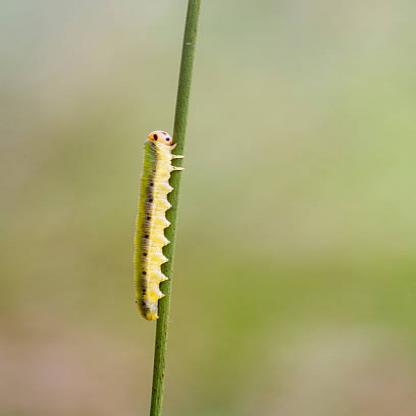sawfly: (122, 128, 187, 325)
